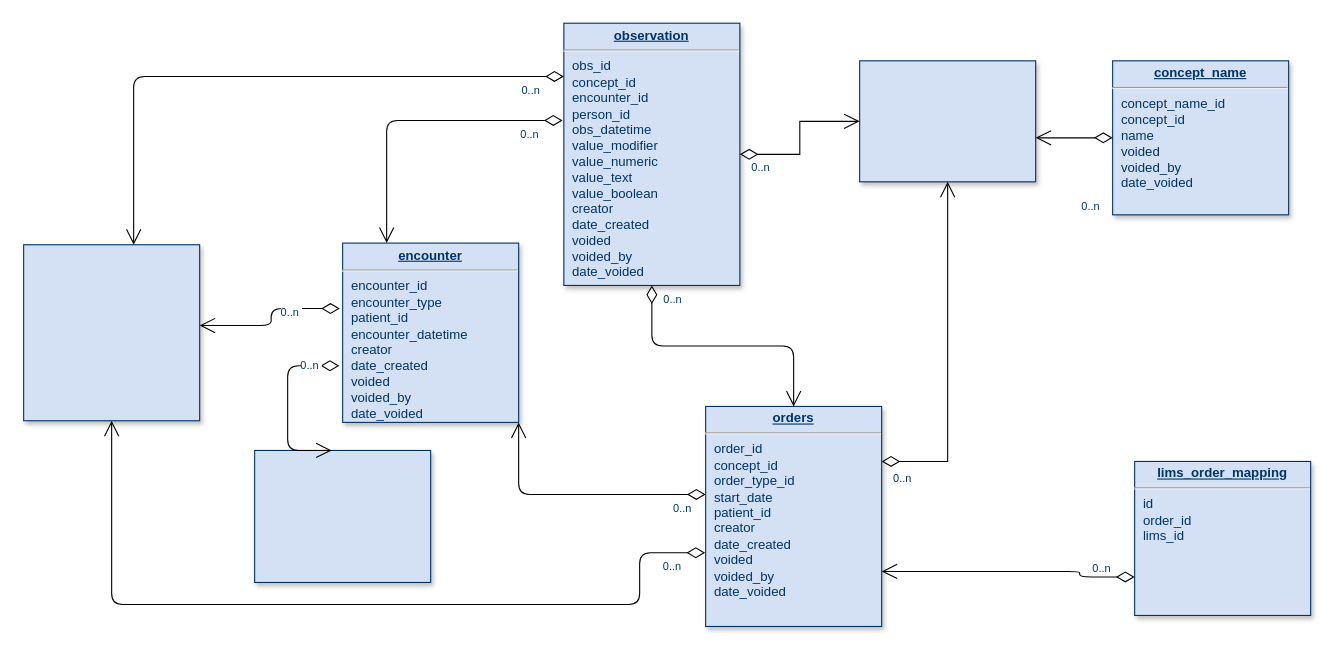
This 1337x655 diagram has some shape labels left out. Here are the shapes that lost their labels. From the top down, the centre of each, then its label:
At point 948,122: "concept concept_id retired retired_by date_retired".
At point 112,333: "patient patient_id voided voided_by date_voided".
At point 343,517: "encounter_type encounter_type_id name retired retired_by date_retired".
